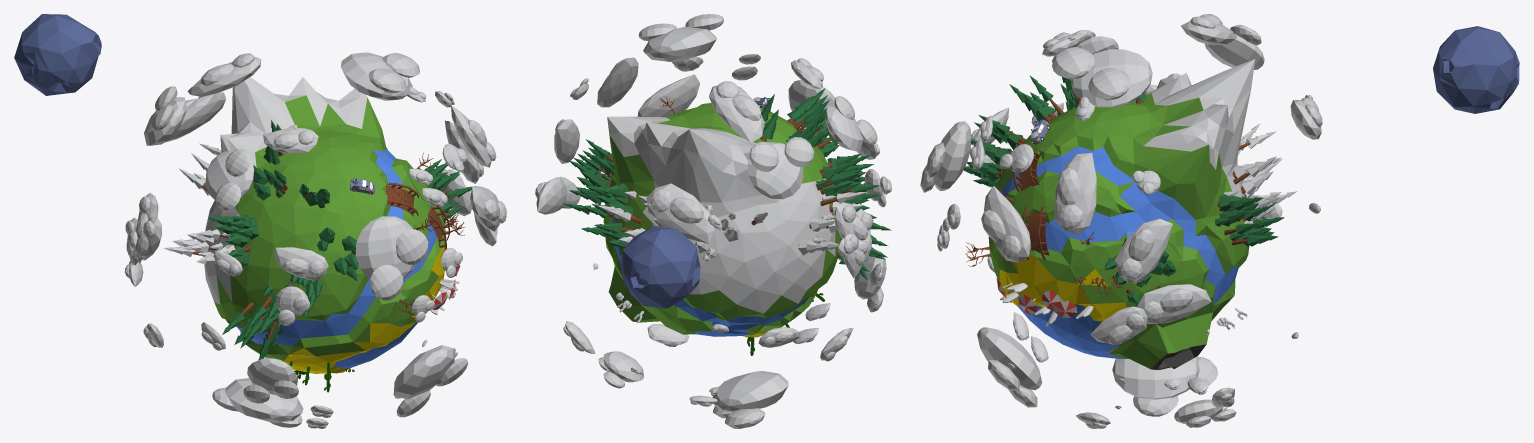
The model's file is planetMerged.glb.
3 views of the same model, side by side, from view 1: azimuth 30°, elevation 25°; view 2: azimuth 150°, elevation 25°; view 3: azimuth 270°, elevation 25° (orthographic). The views are drawn at different scales.
Parts seen in each view (by area): view 1: planet, clouds, moon; view 2: planet, clouds, moon; view 3: planet, clouds, moon.
Boxes of the visible parts, bbox=[...] form: planet: bbox=[163, 77, 476, 392]; clouds: bbox=[124, 52, 506, 428]; moon: bbox=[14, 14, 101, 95]; planet: bbox=[562, 88, 891, 355]; clouds: bbox=[535, 14, 891, 428]; moon: bbox=[620, 225, 700, 308]; planet: bbox=[963, 49, 1296, 369]; clouds: bbox=[920, 14, 1322, 428]; moon: bbox=[1433, 26, 1519, 113].
Size of the model in its own units: 92.66 by 94.66 by 131.
